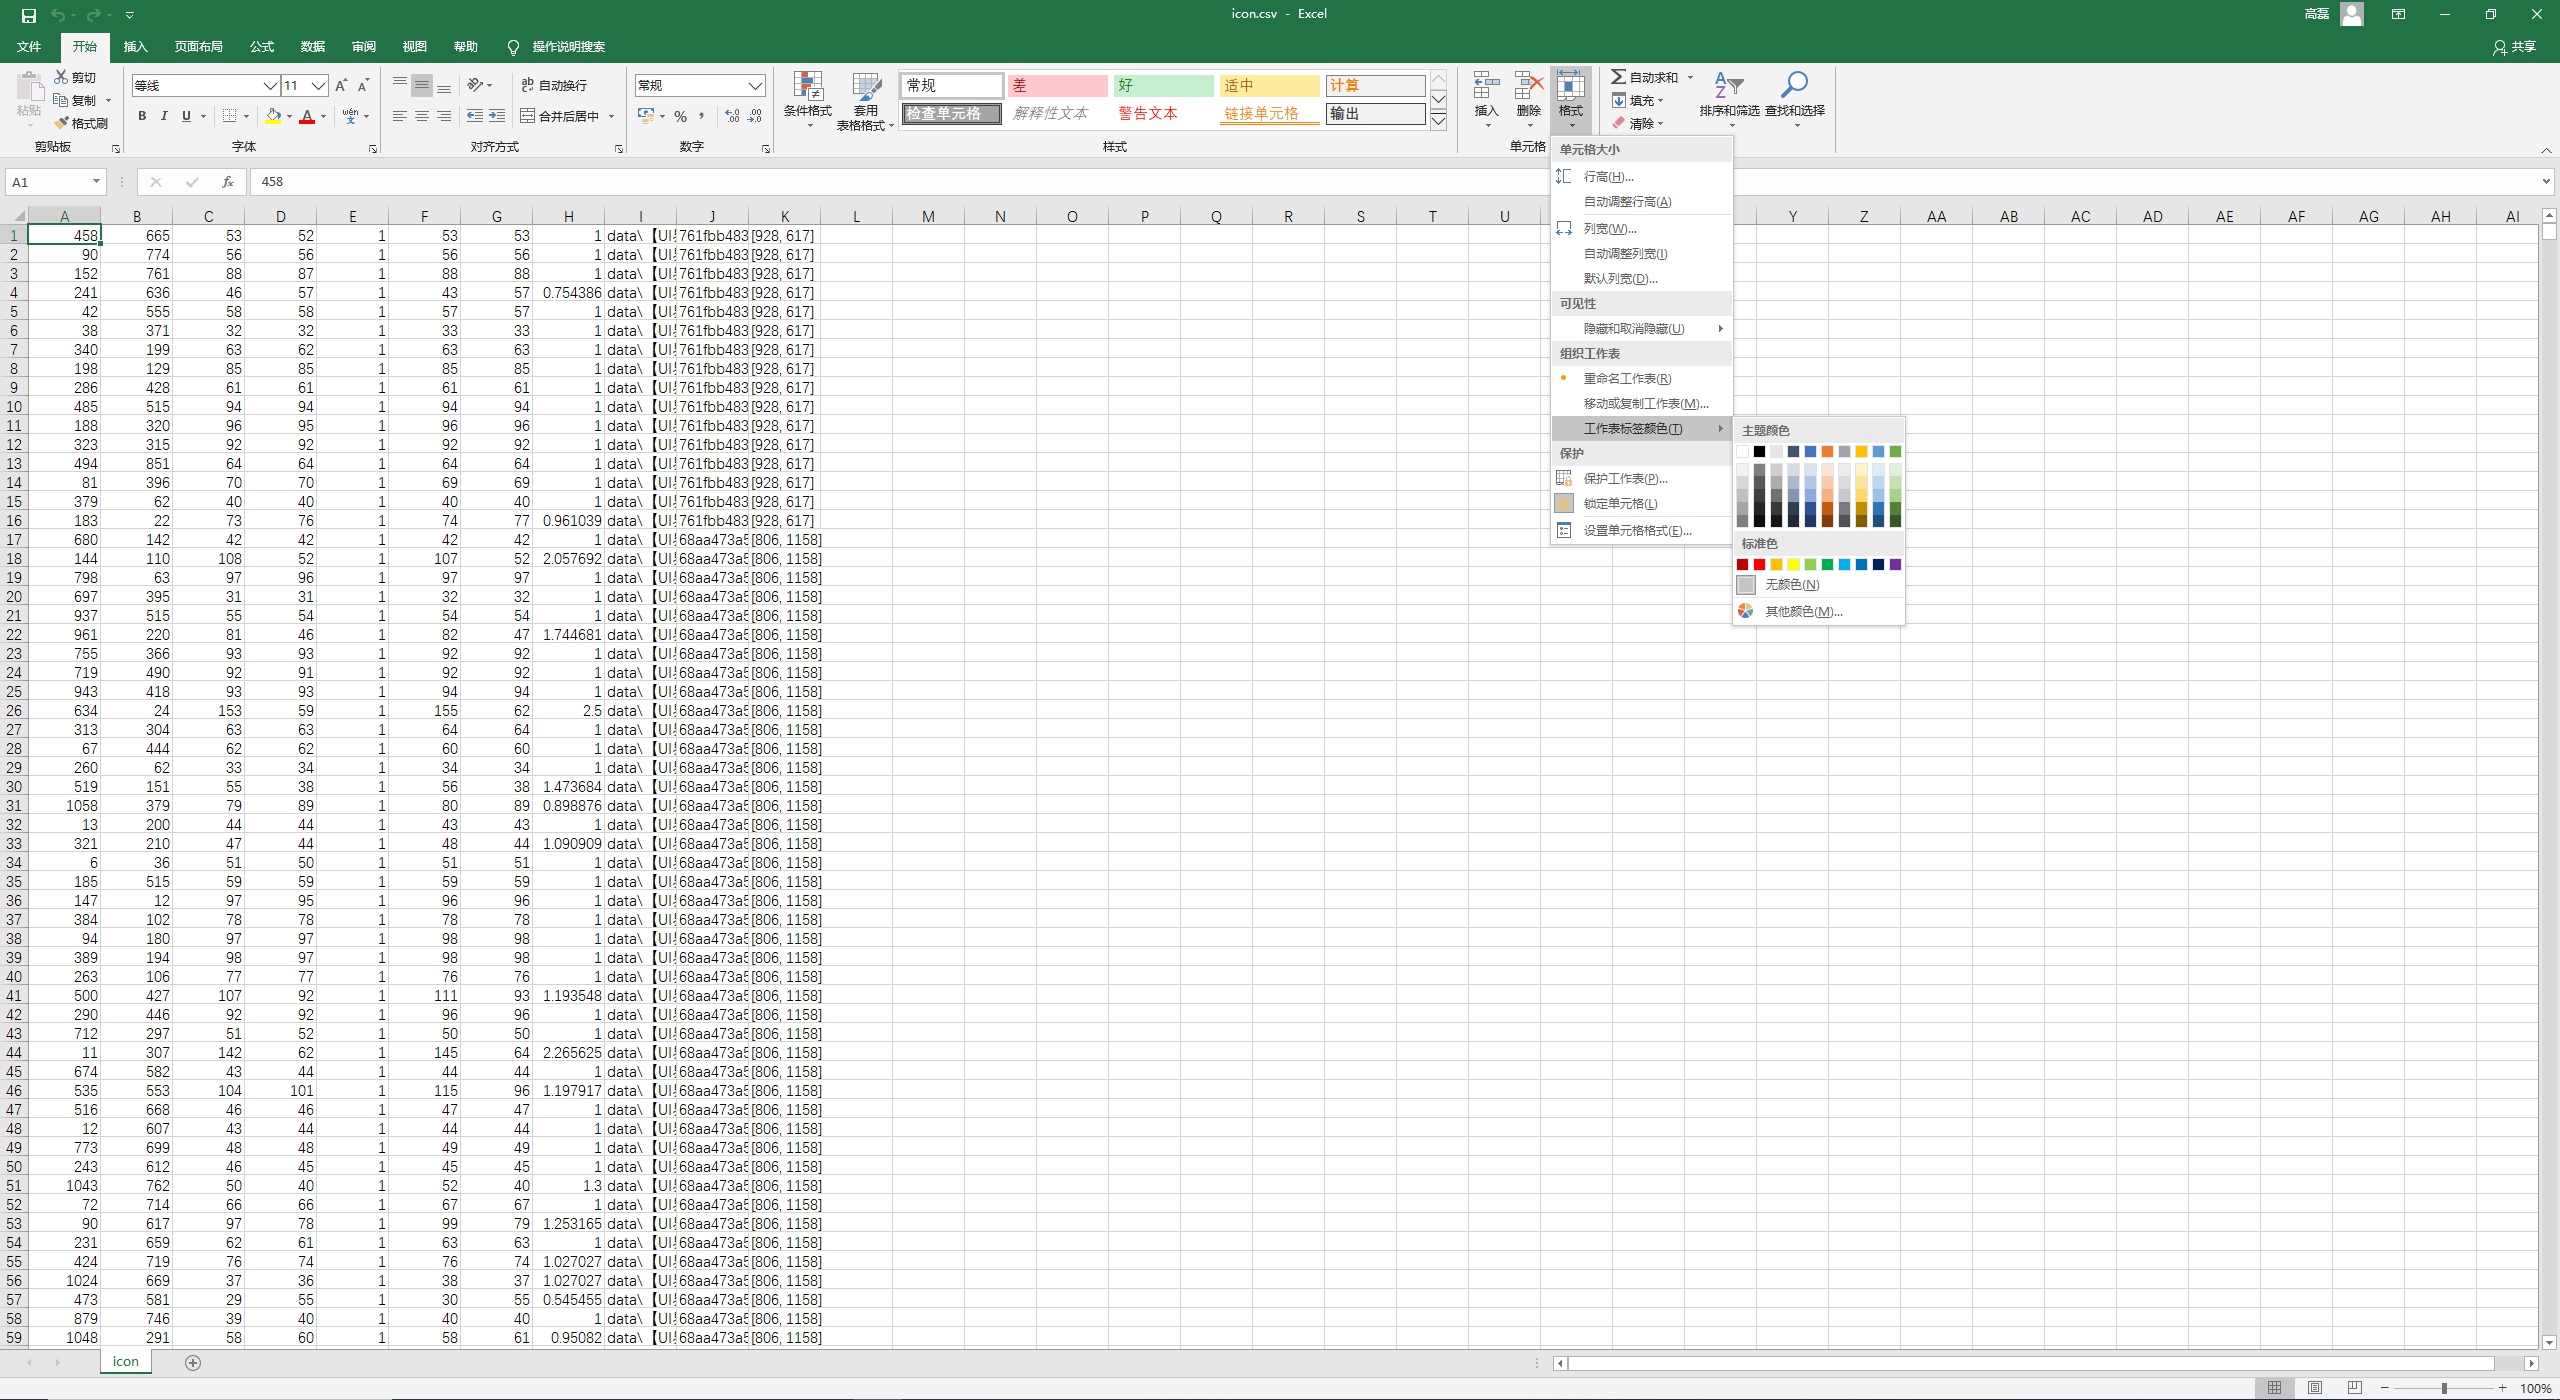character: (1581, 393, 1714, 410), (1581, 417, 1689, 438), (1584, 521, 1691, 540), (1581, 319, 1693, 336), (1229, 3, 1333, 21), (903, 103, 984, 124), (1586, 191, 1670, 209), (1581, 371, 1672, 386), (1581, 471, 1672, 486), (1765, 603, 1846, 621), (1221, 103, 1300, 121), (1581, 267, 1658, 284), (1586, 245, 1670, 260), (1014, 103, 1090, 121), (1115, 102, 1184, 121), (1583, 497, 1658, 514), (171, 34, 229, 55), (534, 40, 610, 55), (105, 1348, 147, 1374), (1558, 141, 1619, 159), (841, 105, 883, 129), (1557, 347, 1622, 360), (1765, 578, 1822, 593), (1584, 221, 1641, 236), (1583, 167, 1636, 183), (1326, 74, 1365, 95), (1769, 103, 1824, 117), (545, 109, 598, 122), (1700, 103, 1760, 116), (541, 79, 591, 93), (1508, 136, 1546, 153), (1560, 295, 1598, 312), (1633, 71, 1679, 84), (259, 171, 290, 191), (10, 40, 50, 55), (121, 38, 150, 59), (908, 72, 940, 91), (1219, 79, 1255, 95), (352, 34, 381, 53), (1745, 424, 1789, 436), (245, 40, 279, 55), (472, 141, 524, 152), (1329, 103, 1360, 121), (783, 105, 833, 116), (1008, 74, 1033, 95), (2520, 1383, 2557, 1397), (133, 76, 164, 91), (1098, 136, 1129, 152), (1557, 447, 1588, 460), (402, 34, 426, 52), (450, 36, 474, 53), (300, 40, 329, 53), (2305, 5, 2331, 21), (1739, 538, 1777, 548), (10, 174, 33, 191), (234, 138, 262, 152), (640, 76, 665, 90), (679, 138, 705, 152), (14, 105, 43, 117), (1472, 103, 1502, 116), (71, 40, 98, 52), (76, 93, 97, 109), (1117, 76, 1133, 97), (76, 71, 98, 84), (2512, 40, 2534, 53), (36, 141, 71, 150), (78, 117, 105, 128), (1519, 103, 1539, 116), (1560, 105, 1584, 116), (1631, 117, 1652, 129), (1631, 95, 1652, 105), (676, 109, 690, 122), (698, 109, 707, 124)
icon: (1552, 69, 1589, 103), (790, 69, 827, 102), (1510, 67, 1545, 100), (1777, 67, 1812, 100), (850, 71, 883, 103), (16, 71, 47, 102), (1470, 67, 1502, 98), (2296, 1379, 2331, 1398), (2258, 1378, 2289, 1398), (2338, 1378, 2369, 1398), (410, 72, 434, 98), (2338, 2, 2363, 26), (215, 171, 240, 193), (1427, 86, 1450, 110), (1734, 574, 1757, 597), (745, 72, 765, 97), (305, 76, 328, 97), (462, 72, 484, 93), (1553, 491, 1574, 514), (1431, 66, 1450, 90), (2526, 2, 2546, 22), (183, 1352, 203, 1372), (259, 76, 281, 95), (722, 103, 741, 126), (17, 5, 38, 24), (183, 172, 203, 191), (517, 76, 538, 95), (464, 105, 484, 124), (1727, 76, 1746, 97), (2481, 3, 2501, 22), (2388, 3, 2408, 22), (2434, 3, 2455, 22), (1714, 67, 1726, 98), (353, 76, 372, 95), (52, 67, 71, 86), (264, 105, 283, 124), (390, 105, 409, 124), (434, 105, 453, 124), (638, 105, 657, 124), (434, 79, 453, 98), (1433, 114, 1452, 133), (1608, 90, 1627, 109), (1608, 67, 1627, 86), (2489, 38, 2508, 57), (1553, 521, 1572, 540), (147, 172, 164, 193), (517, 105, 538, 122), (412, 105, 433, 122), (488, 107, 509, 124), (221, 105, 238, 124), (390, 72, 409, 90), (333, 76, 350, 95), (746, 105, 764, 124), (1555, 467, 1572, 486), (1555, 164, 1570, 184), (52, 91, 69, 109), (84, 7, 102, 24), (178, 107, 195, 124), (298, 107, 315, 124), (48, 7, 66, 24), (155, 105, 172, 122), (341, 107, 359, 124), (52, 114, 71, 129), (503, 40, 522, 55), (1552, 1355, 1570, 1371), (90, 171, 103, 191), (2376, 1379, 2391, 1397), (121, 7, 136, 22), (134, 107, 150, 122), (1738, 602, 1753, 617), (2524, 1355, 2539, 1371), (2494, 1379, 2510, 1395), (1555, 221, 1570, 234), (1612, 114, 1626, 129), (2543, 205, 2557, 221), (1853, 557, 1869, 571), (1734, 445, 1750, 459), (2543, 1334, 2557, 1350), (1803, 445, 1819, 459), (1853, 445, 1869, 459), (1734, 462, 1750, 476), (1803, 464, 1819, 478), (1803, 476, 1819, 490), (1853, 476, 1869, 490), (240, 109, 253, 122), (102, 91, 116, 105), (197, 109, 210, 122), (603, 109, 617, 122), (803, 117, 817, 131), (2539, 143, 2553, 157), (1838, 557, 1851, 571), (1820, 557, 1834, 571), (1803, 557, 1817, 571), (1753, 445, 1767, 459), (1770, 445, 1784, 459), (1788, 445, 1801, 459), (1822, 445, 1836, 459), (1838, 445, 1851, 459), (1872, 445, 1886, 459), (1889, 445, 1903, 459), (1751, 464, 1765, 478), (1788, 462, 1801, 476), (1838, 462, 1851, 476), (1872, 462, 1886, 476), (1888, 462, 1901, 476), (1838, 476, 1851, 490), (1838, 490, 1851, 503), (1838, 502, 1851, 516), (1838, 516, 1851, 529), (1855, 502, 1869, 516), (1855, 516, 1869, 529), (1888, 478, 1901, 491), (1889, 490, 1903, 503), (1872, 476, 1886, 490), (1872, 490, 1886, 503), (1872, 502, 1886, 516), (1872, 516, 1886, 529), (317, 109, 329, 124), (1522, 117, 1538, 129), (1714, 421, 1726, 436), (2439, 1381, 2451, 1397), (50, 1355, 66, 1367), (22, 117, 36, 129), (614, 141, 626, 155), (1789, 117, 1803, 129), (1683, 71, 1696, 83), (1769, 559, 1783, 571), (1753, 559, 1767, 571), (1870, 559, 1884, 571), (1888, 559, 1901, 571), (1820, 464, 1834, 476), (1855, 464, 1869, 476), (1734, 502, 1746, 516), (1736, 516, 1748, 529), (1751, 490, 1765, 502), (1769, 516, 1783, 528), (1788, 490, 1800, 503), (1788, 502, 1800, 516), (1803, 516, 1817, 528), (1820, 478, 1834, 490), (1855, 490, 1869, 502), (1889, 503, 1903, 516), (1889, 516, 1903, 528), (2539, 174, 2555, 184), (1803, 503, 1819, 514), (367, 141, 379, 153), (110, 141, 122, 153), (360, 110, 372, 122), (760, 141, 772, 153), (1483, 117, 1495, 129), (1738, 559, 1750, 571), (1770, 464, 1783, 476), (1734, 476, 1746, 488), (1736, 490, 1748, 502), (1753, 478, 1765, 490), (1753, 503, 1765, 516), (1753, 516, 1765, 528), (1770, 476, 1783, 488), (1770, 490, 1783, 502), (1770, 502, 1783, 514), (1788, 478, 1800, 490), (1788, 516, 1800, 528), (67, 9, 78, 22), (105, 9, 116, 22), (657, 109, 667, 122), (486, 78, 496, 91), (1655, 93, 1665, 107), (1803, 491, 1817, 502), (1820, 491, 1834, 502), (1820, 503, 1834, 514), (1820, 516, 1834, 526), (284, 110, 295, 122), (1655, 117, 1665, 129), (1726, 121, 1738, 131), (1715, 322, 1726, 334), (1788, 559, 1800, 569), (24, 1355, 36, 1366), (888, 119, 896, 131), (1567, 121, 1577, 129)
